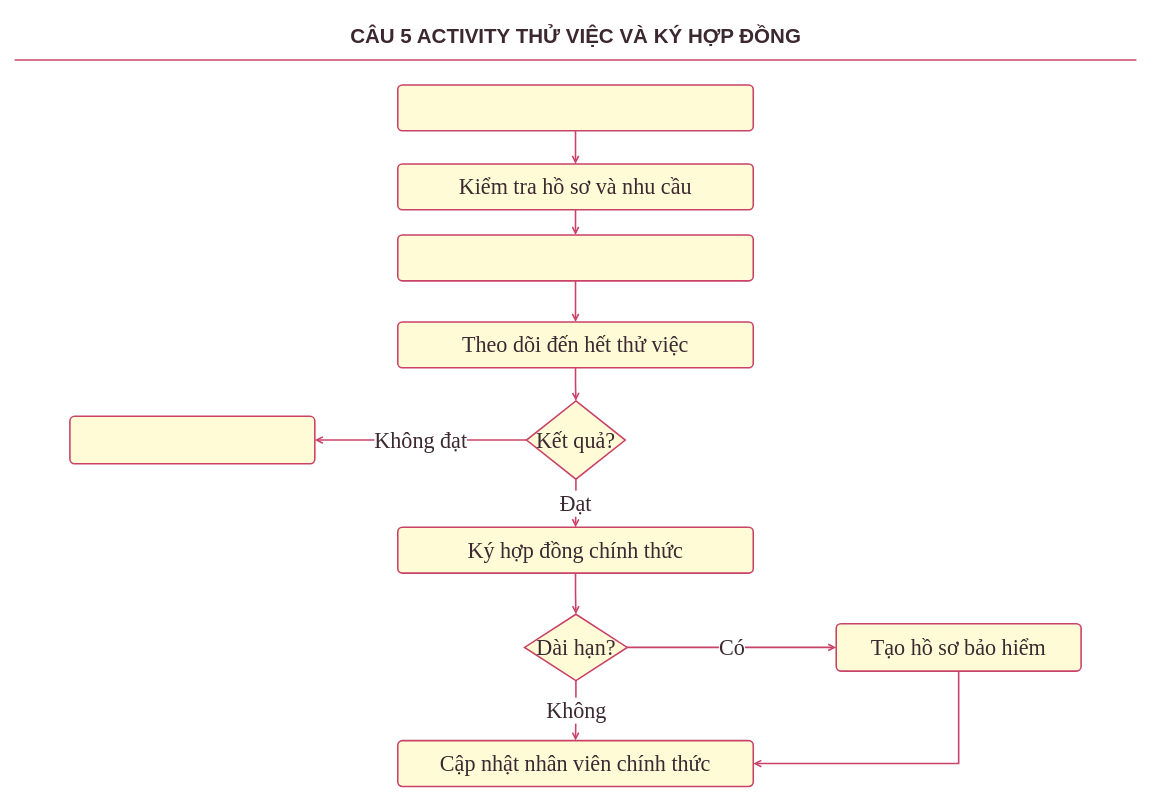
This 1150x800 diagram has some shape labels left out. Each missing label, with the centre of its shape:
Ban hành QĐ tuyển dụng: pixel 575 257
Kết thúc thử việc: pixel 192 439
Nhập hồ sơ ứng viên: pixel 575 107
